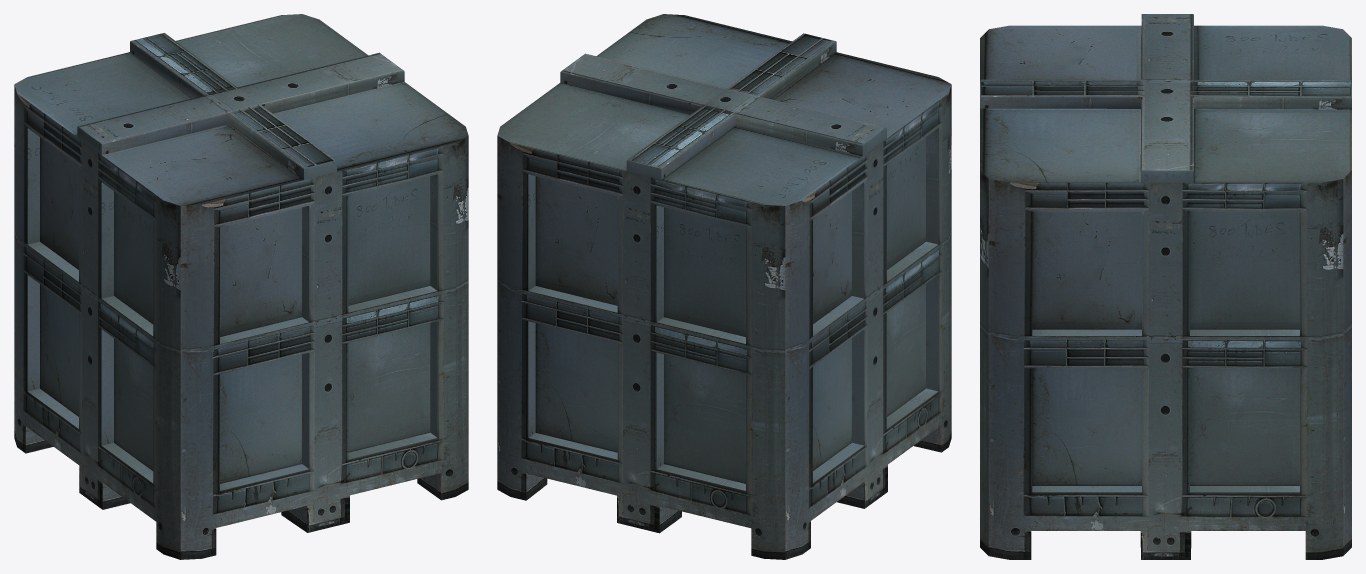
Rendered from crate-1.FBX.
The picture shows the model from 3 angles, left to right: view 1: azimuth 30°, elevation 25°; view 2: azimuth 150°, elevation 25°; view 3: azimuth 270°, elevation 25°; orthographic projection. The views are drawn at different scales.
Visible parts, largest first — view 1: crate-1_LOD0; view 2: crate-1_LOD0; view 3: crate-1_LOD0.
Boxes of the visible parts, x1,y1,x2,y2 form: crate-1_LOD0: [14, 14, 468, 559]; crate-1_LOD0: [497, 14, 951, 559]; crate-1_LOD0: [980, 14, 1351, 559].
Size of what is drawn, in the model's own units: 24.83 by 28.66 by 24.83.
